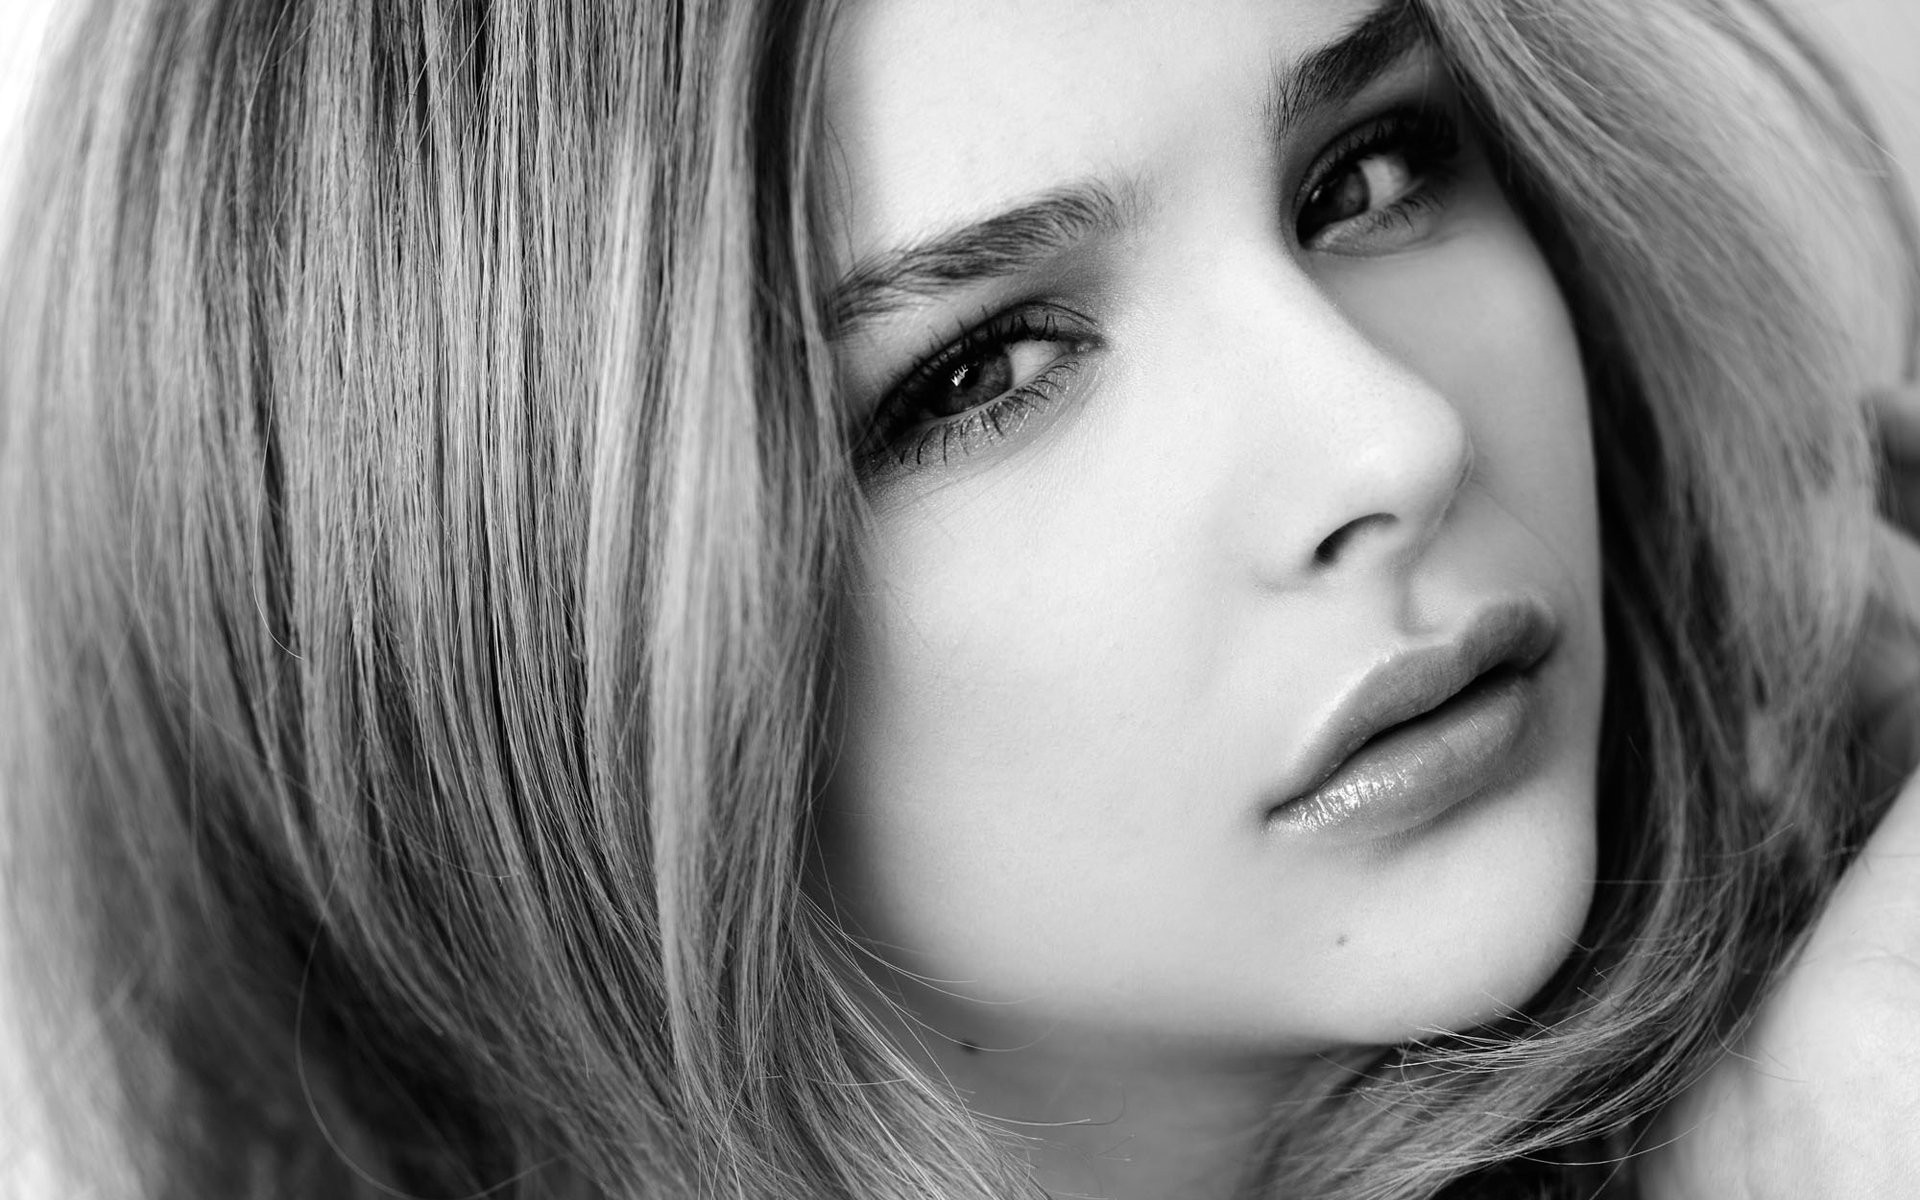GIRL: (582, 13, 1694, 1056)
